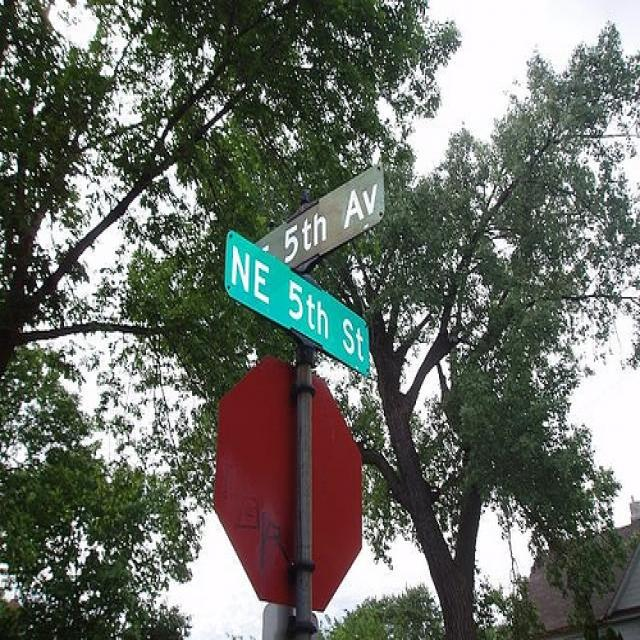pole: (287, 179, 324, 637)
